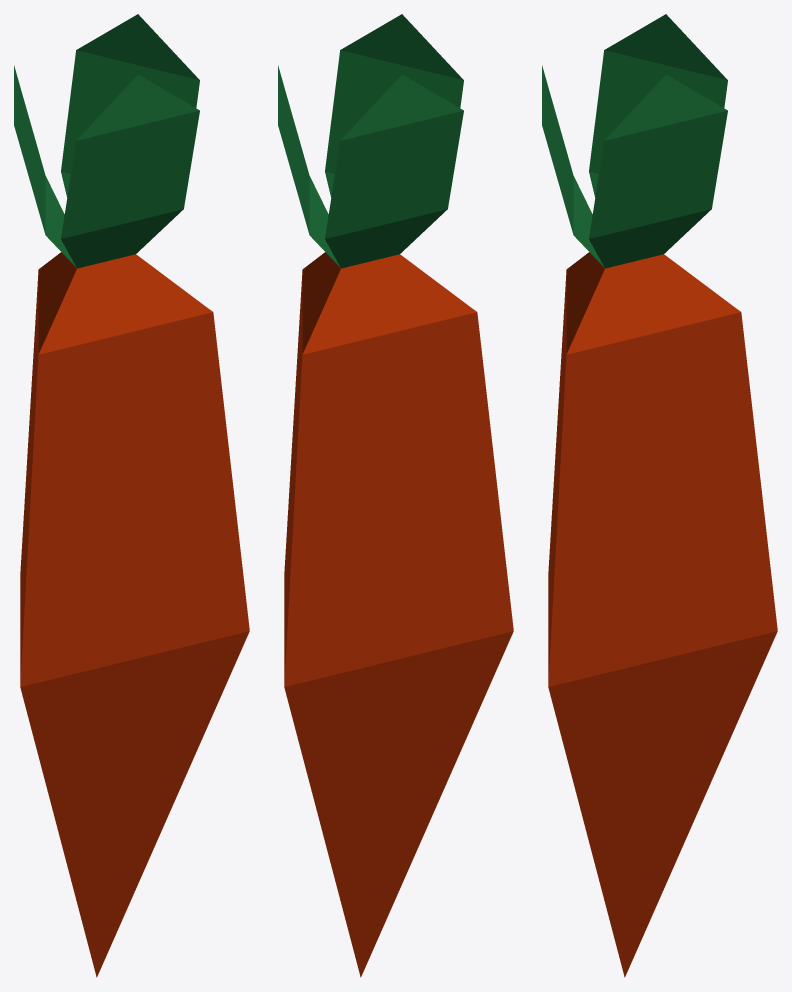
File: Carrot.fbx
3 renders of one model, left to right at view 1: azimuth 30°, elevation 25°; view 2: azimuth 150°, elevation 25°; view 3: azimuth 270°, elevation 25°, orthographic.
Visible parts, largest first — view 1: Circle; view 2: Circle; view 3: Circle.
Part boxes in pixels (x1,y1,x2,y2): Circle: (14,14,249,977); Circle: (278,14,513,977); Circle: (542,14,777,977).
Size of the model in its own units: 173 by 673 by 154.
